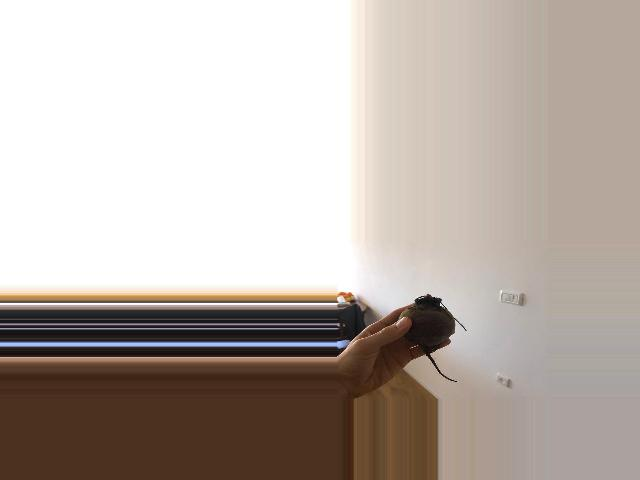beet: (398, 294, 467, 382)
